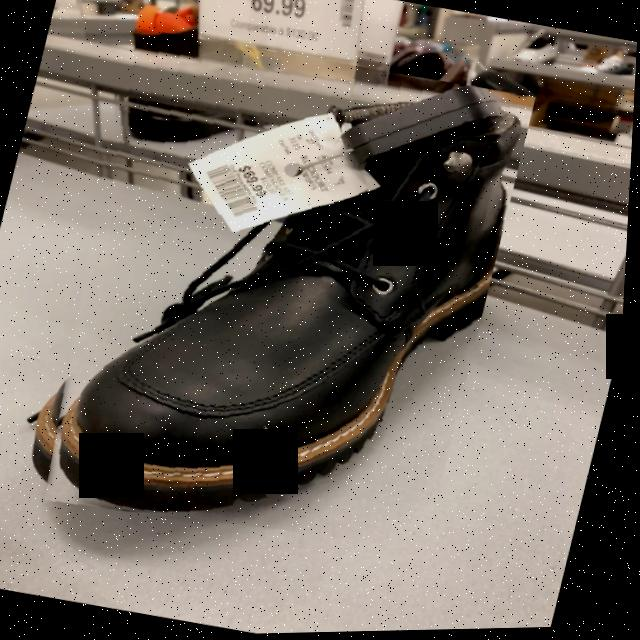shoe: (58, 88, 523, 517)
